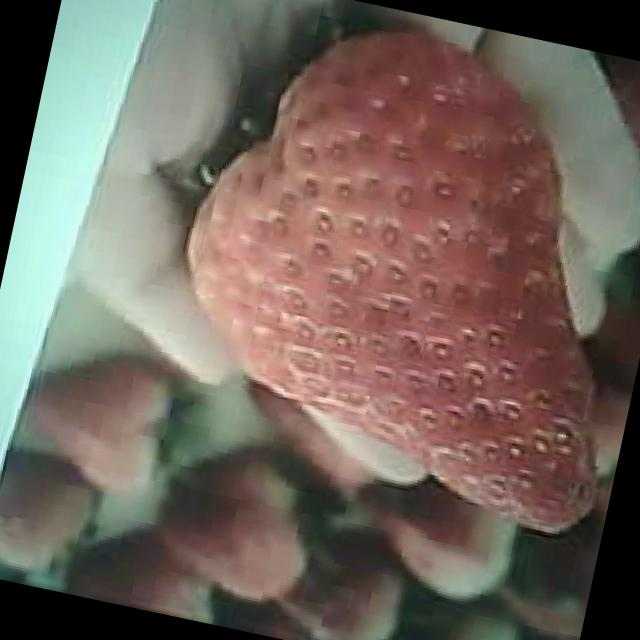strawberry: (146, 0, 640, 543)
